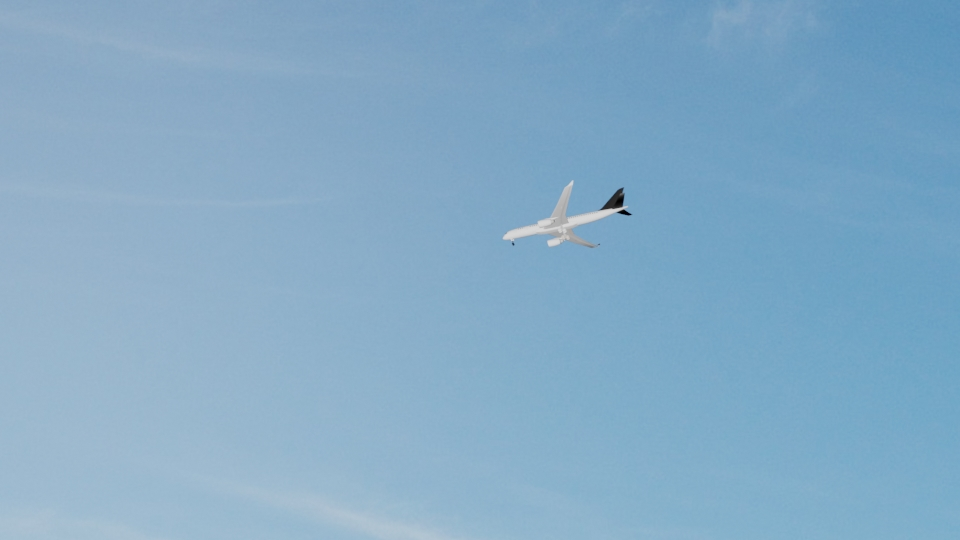plane: (499, 176, 633, 249)
